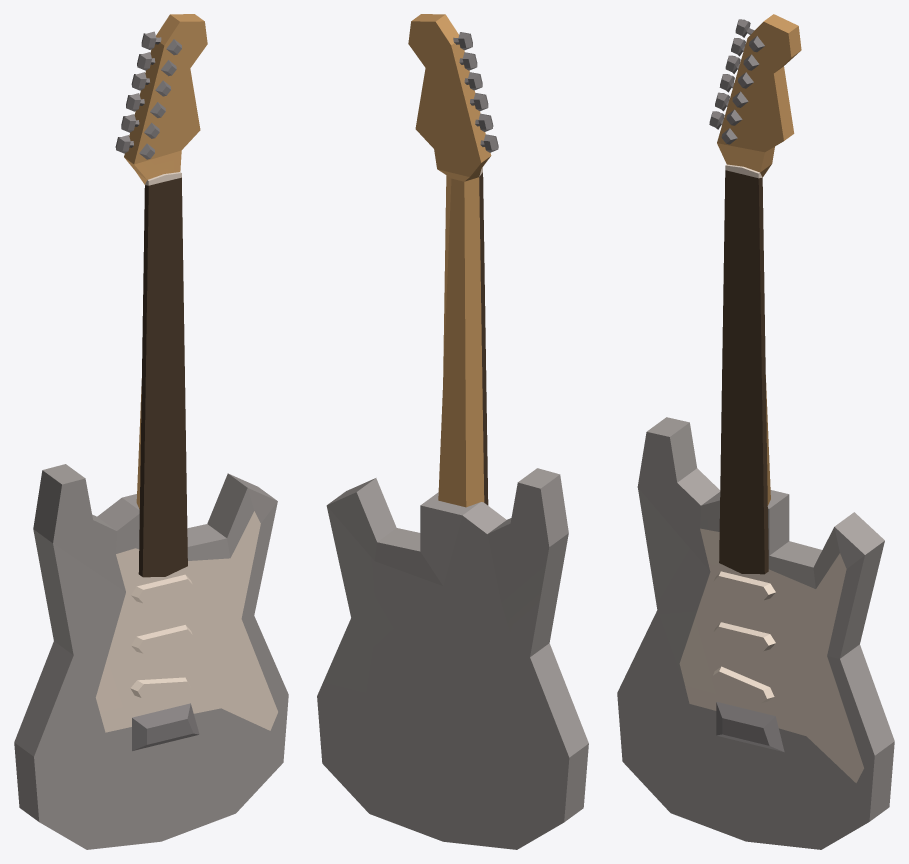
The model's file is guitar-electric-country.glb.
The picture shows the model from 3 angles, left to right: view 1: azimuth 30°, elevation 25°; view 2: azimuth 150°, elevation 25°; view 3: azimuth 330°, elevation 25°; orthographic projection. The views are drawn at different scales.
Visible parts, largest first — view 1: guitar-electric-country; view 2: guitar-electric-country; view 3: guitar-electric-country.
Part boxes in pixels (x1,y1,x2,y2): guitar-electric-country: (14, 14, 288, 849); guitar-electric-country: (317, 14, 588, 849); guitar-electric-country: (617, 14, 894, 849).
Bounding box in the file's own units: 0.3288 × 1.01 × 0.0556.
1 material, 1 textured.
